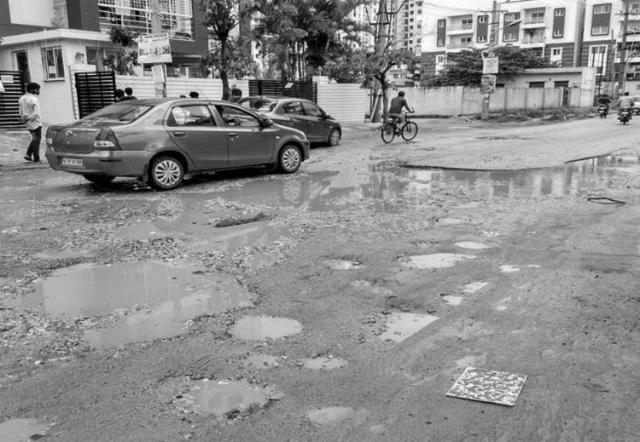Pothole: (106, 127, 640, 253), (0, 233, 230, 347), (156, 363, 292, 428), (210, 298, 326, 350), (386, 233, 504, 277), (225, 230, 299, 272), (370, 306, 444, 347), (0, 407, 77, 442), (296, 398, 362, 436), (302, 344, 348, 378), (242, 347, 296, 373), (325, 250, 367, 276)
